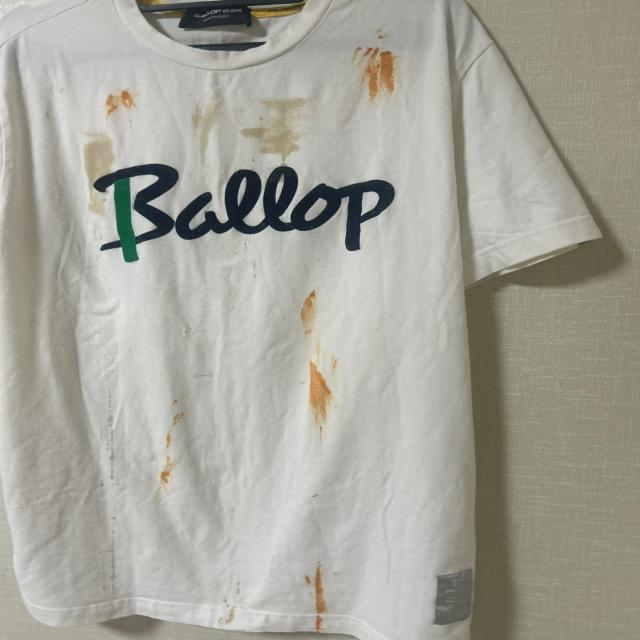stain: (77, 129, 112, 224), (308, 359, 332, 427), (260, 98, 306, 132), (256, 131, 305, 158), (98, 429, 120, 480), (379, 51, 402, 98), (296, 294, 318, 336), (358, 62, 379, 105), (105, 554, 121, 599), (162, 431, 175, 486), (186, 95, 205, 129), (98, 93, 122, 119), (115, 88, 137, 113), (316, 564, 326, 615), (354, 43, 378, 64), (200, 116, 210, 166), (206, 90, 219, 127), (239, 124, 266, 141), (105, 386, 116, 426), (98, 564, 110, 591), (168, 410, 186, 427), (89, 226, 106, 244), (374, 26, 390, 43), (240, 235, 252, 257), (313, 425, 325, 446), (247, 262, 261, 280), (93, 497, 105, 516), (328, 356, 338, 377), (313, 616, 324, 635), (312, 342, 322, 362), (222, 598, 237, 610), (226, 576, 234, 598), (96, 549, 120, 556), (233, 582, 243, 598), (227, 610, 238, 624), (111, 499, 120, 515), (275, 160, 292, 168), (264, 614, 274, 626), (106, 528, 120, 536), (215, 616, 226, 626), (170, 397, 182, 406), (304, 574, 313, 586), (270, 558, 274, 576), (309, 290, 319, 297), (96, 481, 107, 487), (112, 514, 120, 522), (118, 482, 122, 489)
